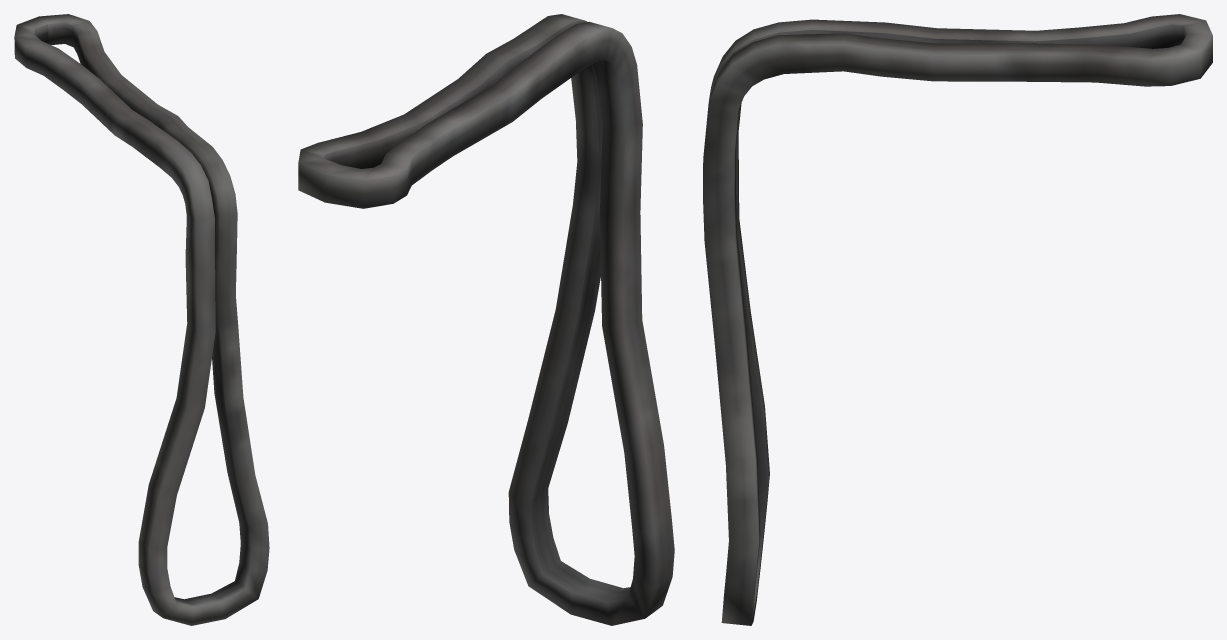
File: wooden_crate_01_latch.glb
The picture shows the model from 3 angles, left to right: view 1: azimuth 30°, elevation 25°; view 2: azimuth 150°, elevation 25°; view 3: azimuth 270°, elevation 25°; orthographic projection. The views are drawn at different scales.
Parts seen in each view (by area): view 1: wooden_crate_01_latch; view 2: wooden_crate_01_latch; view 3: wooden_crate_01_latch.
Part boxes in pixels (bbox=[...]): wooden_crate_01_latch: bbox=[14, 14, 269, 625]; wooden_crate_01_latch: bbox=[298, 14, 674, 625]; wooden_crate_01_latch: bbox=[703, 14, 1212, 625].
Size of the model in its own units: 0.0257 by 0.0967 by 0.0759.
Materials: 1 (1 with a texture image).
